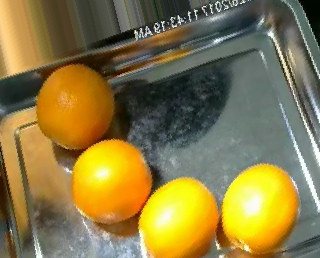Orange: (220, 163, 301, 254), (72, 137, 152, 223), (138, 175, 220, 257), (35, 64, 114, 149)
